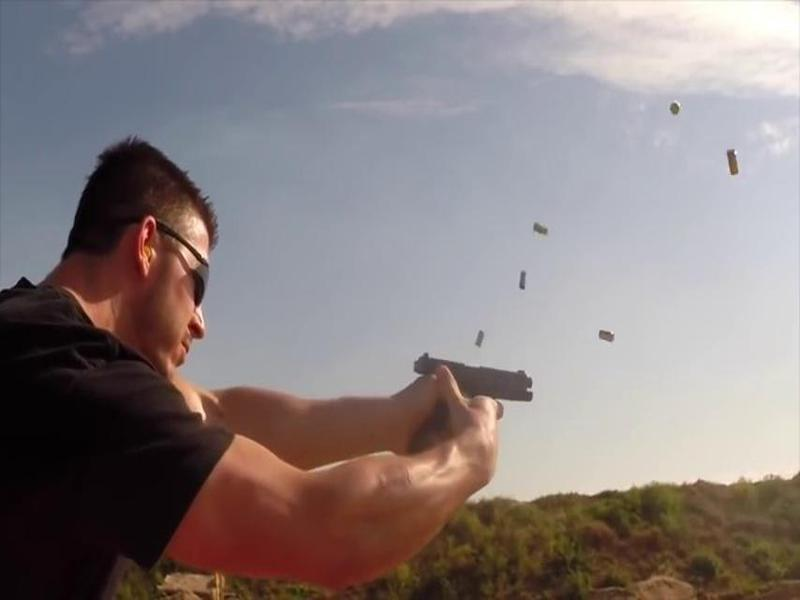Pistola: (404, 345, 545, 448)
